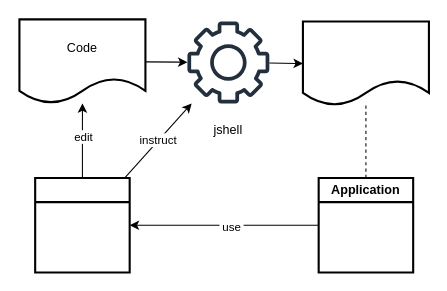
Image size: 447x291. Some labels were removed from this diagram. Here are the shapes that lost their labels. From the top down, the box of each, then its label:
(301, 20, 429, 106): ByteCode
(34, 176, 130, 273): jupyter
